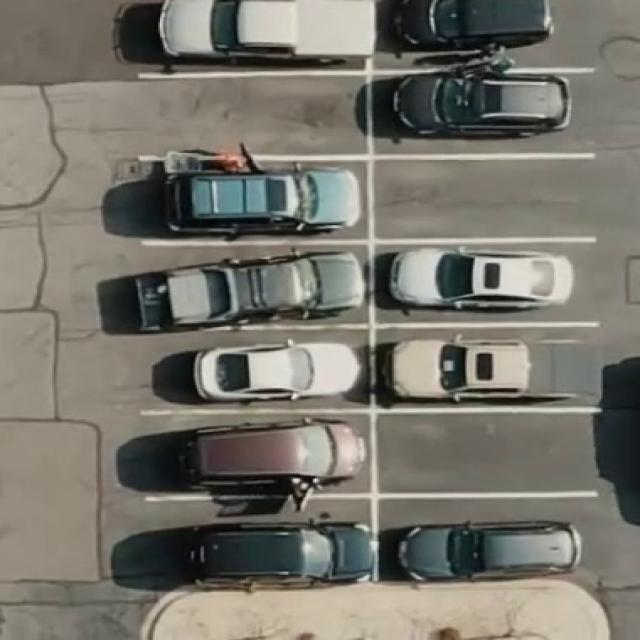empty: (141, 79, 366, 153), (377, 161, 597, 234), (384, 415, 599, 489)
notEmpty: (141, 328, 372, 408), (372, 72, 597, 153), (149, 500, 375, 580), (144, 417, 372, 493), (146, 160, 362, 240), (142, 247, 368, 323), (378, 331, 603, 407), (382, 502, 606, 578), (377, 244, 600, 320), (139, 3, 363, 72), (375, 0, 594, 67)
